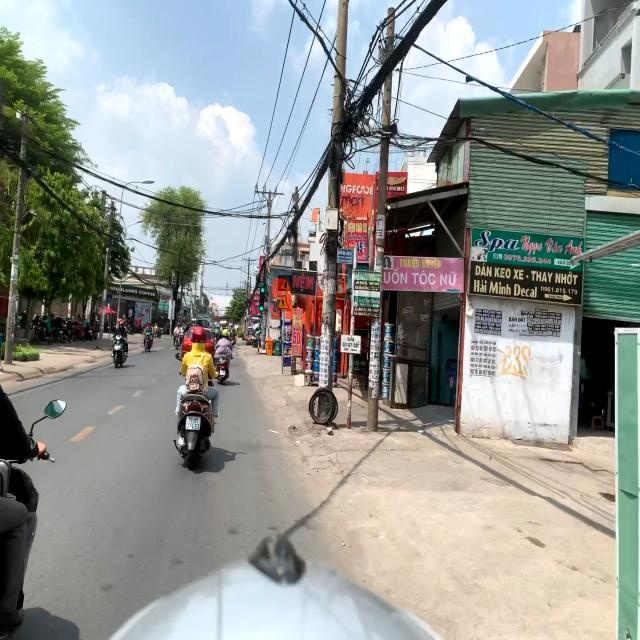bien_nguy_hiem: (278, 275, 292, 291), (277, 296, 291, 312)
